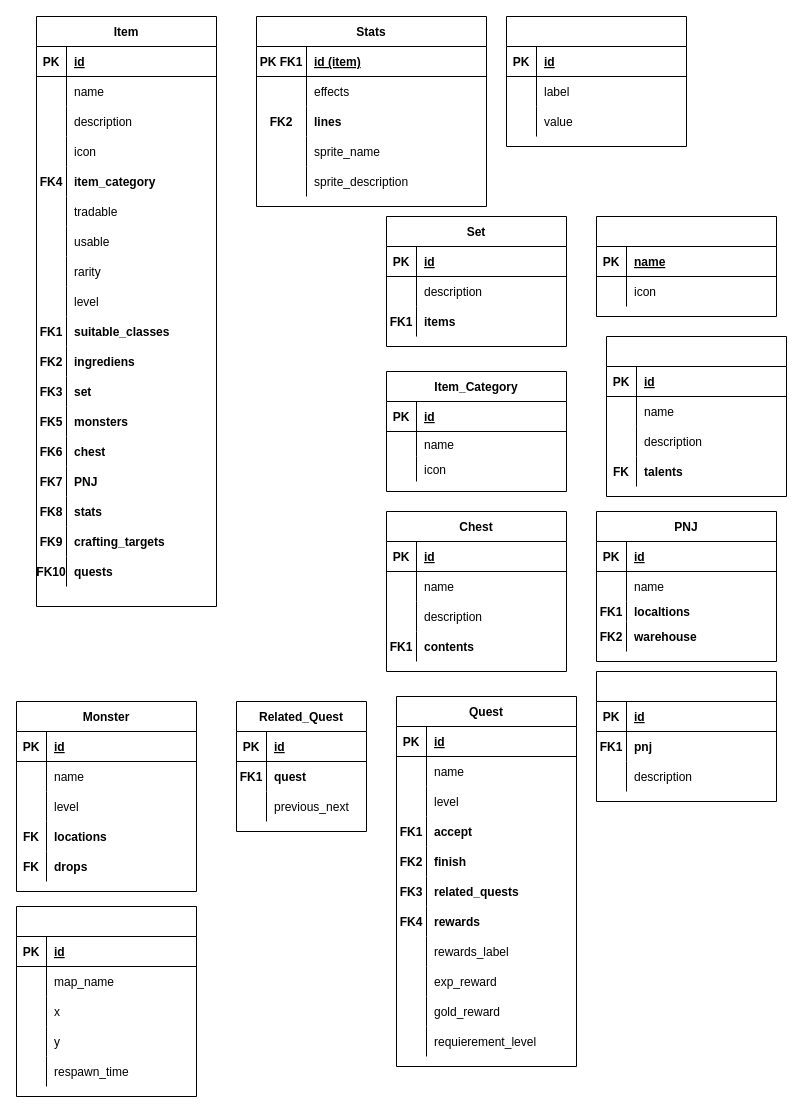
Some shapes in this 803 by 1113 pixel diagram are drawn without their labels. The box of each missing label's shape, as (x1, y1, x2, y2) in pixels:
Class: (596, 216, 776, 316)
Location: (16, 906, 196, 1096)
Quest_Description: (596, 670, 776, 802)
Stats_line: (506, 16, 686, 146)
Talent_Combination: (606, 336, 786, 496)
